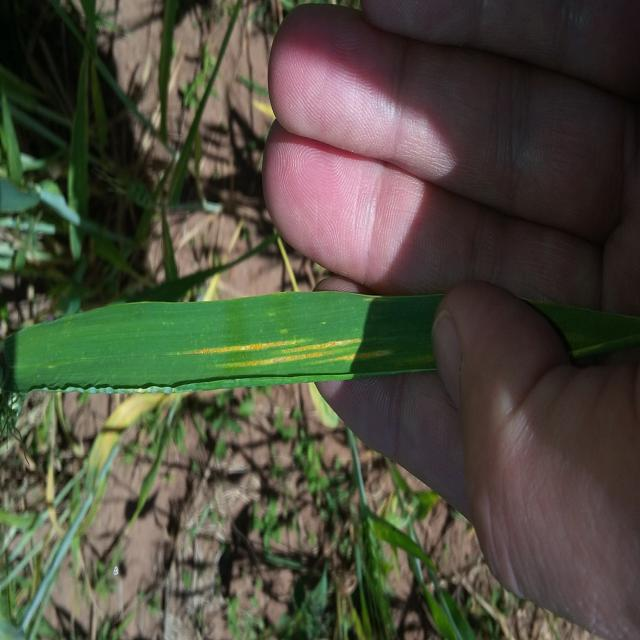wheat-yellowrust: (10, 325, 417, 377)
